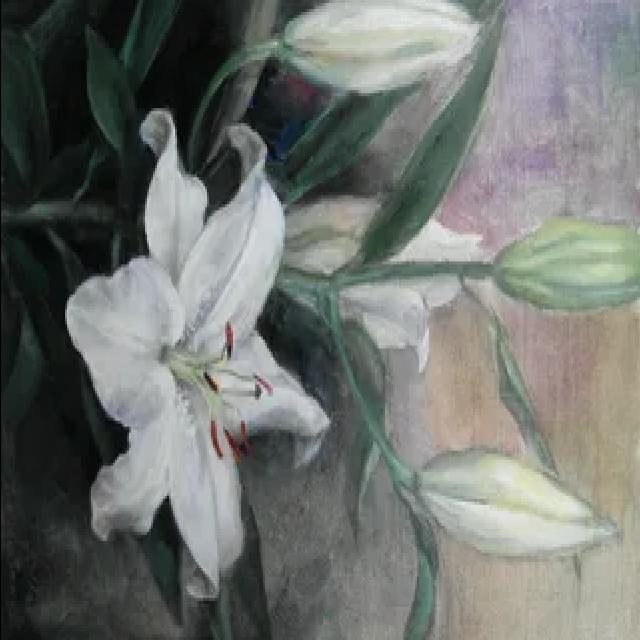lily: (65, 106, 331, 596)
